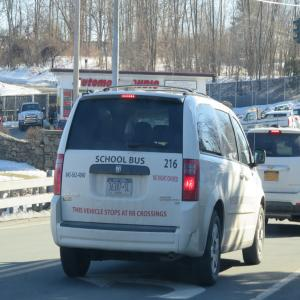Vehicle-registration-plate: (106, 178, 133, 195), (264, 171, 280, 183)
